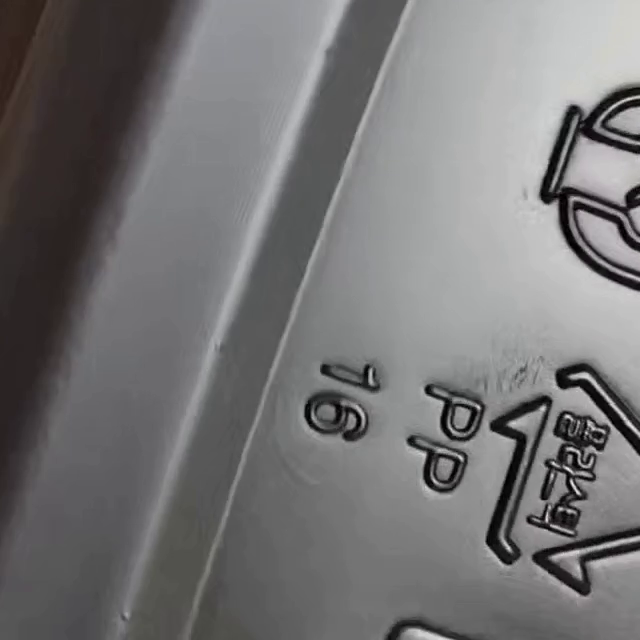Plastic: (482, 366, 640, 594)
